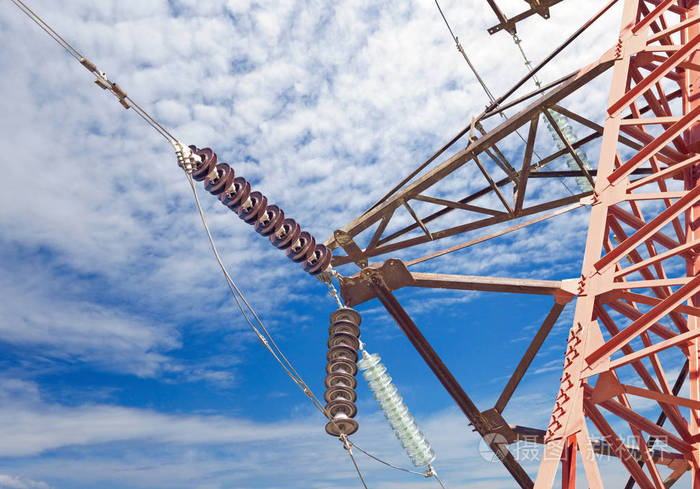insulator: (189, 150, 333, 275), (362, 353, 440, 468), (325, 308, 365, 436), (544, 110, 597, 189)
